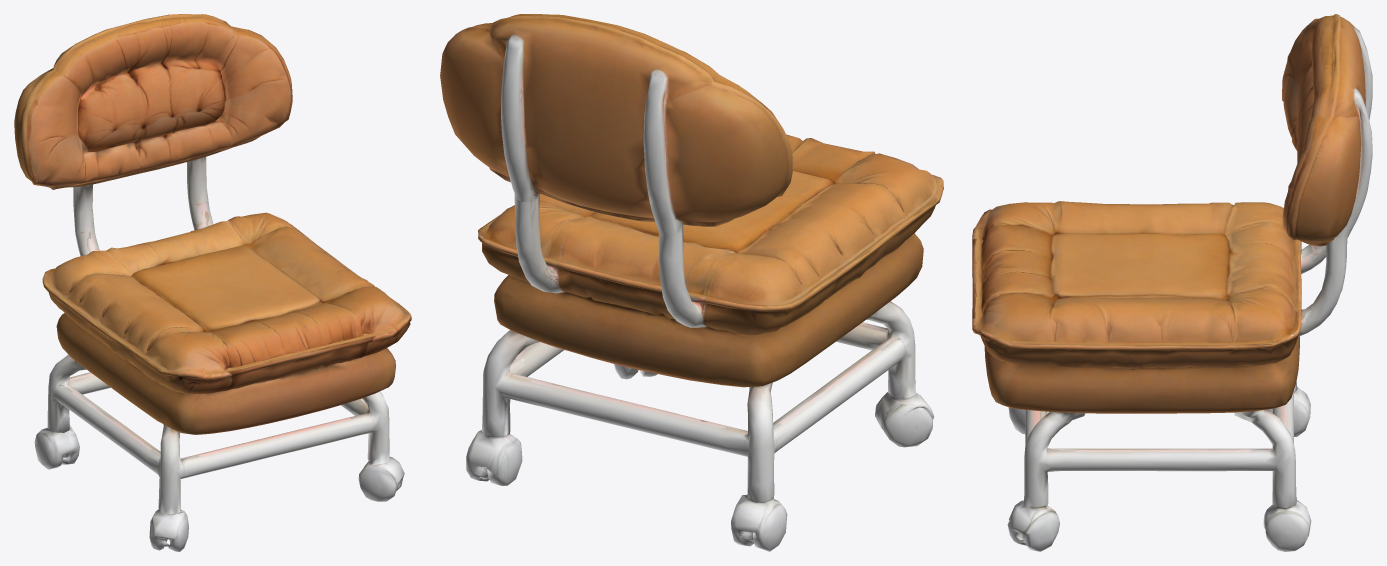
File: Comfy_Chair_on_Wheels_0421141714_texture.glb
The picture shows the model from 3 angles, left to right: view 1: azimuth 30°, elevation 25°; view 2: azimuth 150°, elevation 25°; view 3: azimuth 270°, elevation 25°; orthographic projection. The views are drawn at different scales.
Bounding box in the file's own units: 1.4 × 2 × 1.62.
Materials: 1 (1 with a texture image).
